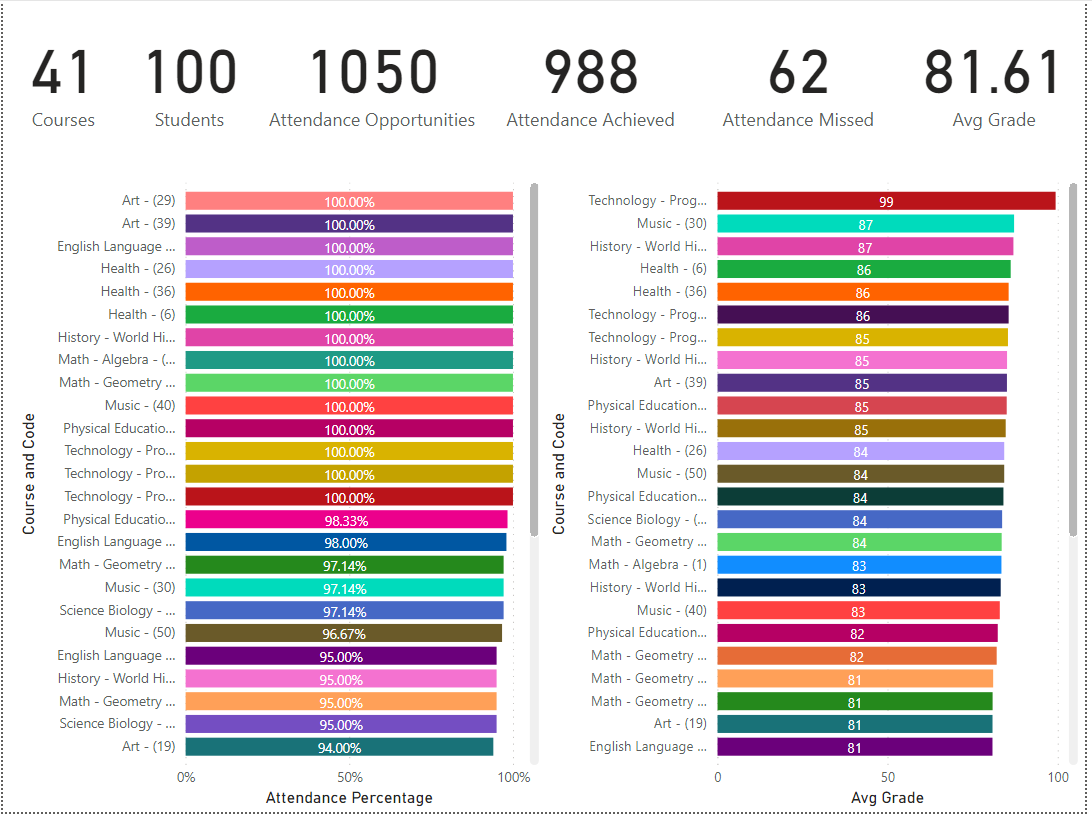

The dashboard page shown, as its layout file describes it:
{"tool":"powerbi","page":{"name":"Attendance and Grades","canvas":[960,720],"ordinal":0},"visuals":[{"type":"barChart","fields":{"Y":["studentsectionperformance.Average Grade"],"Category":["course.Course and Code"],"Series":["course.Code"]},"box":[480.3,148.3,479.4,571.7],"z":0},{"type":"barChart","fields":{"Y":["studentsectionperformance.Attendance Percentage"],"Series":["course.Code"],"Category":["course.Course Name"]},"box":[9.8,148.3,470.5,571.7],"z":1000},{"type":"card","fields":{"Values":["studentsectionperformance.Course Count"]},"box":[0,8.9,106.5,113.6],"z":1001},{"type":"card","fields":{"Values":["studentsectionperformance.Student Count"]},"box":[106.5,8.9,118.1,113.6],"z":1002},{"type":"card","fields":{"Values":["studentsectionperformance.Attendance Opportunities"]},"box":[224.6,8.9,206,113.6],"z":1004},{"type":"card","fields":{"Values":["studentsectionperformance.Attendance Missed"]},"box":[612.6,8.9,187.3,113.6],"z":1005},{"type":"card","fields":{"Values":["studentsectionperformance.Attendance Achieved"]},"box":[430.6,8.9,182,113.6],"z":1006},{"type":"card","fields":{"Values":["studentsectionperformance.Average Grade"]},"box":[799.9,8.9,159.8,113.6],"z":1007}]}

Visuals, with their boxes in screenshot pixels (x1, y1, x2, y2), scaled from the page's 960x720 canvas onto the 1092x817 screenshot:
barChart - studentsectionperformance.Average Grade x course.Course and Code: region(546, 168, 1091, 816)
barChart - studentsectionperformance.Attendance Percentage x course.Code: region(11, 168, 546, 816)
card - studentsectionperformance.Course Count: region(0, 10, 121, 139)
card - studentsectionperformance.Student Count: region(121, 10, 255, 139)
card - studentsectionperformance.Attendance Opportunities: region(255, 10, 490, 139)
card - studentsectionperformance.Attendance Missed: region(697, 10, 910, 139)
card - studentsectionperformance.Attendance Achieved: region(490, 10, 697, 139)
card - studentsectionperformance.Average Grade: region(910, 10, 1091, 139)
